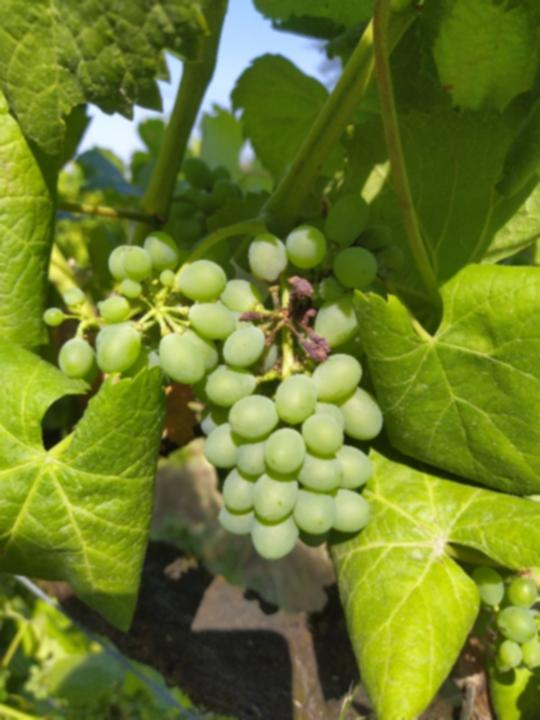grape: (40, 191, 407, 564)
